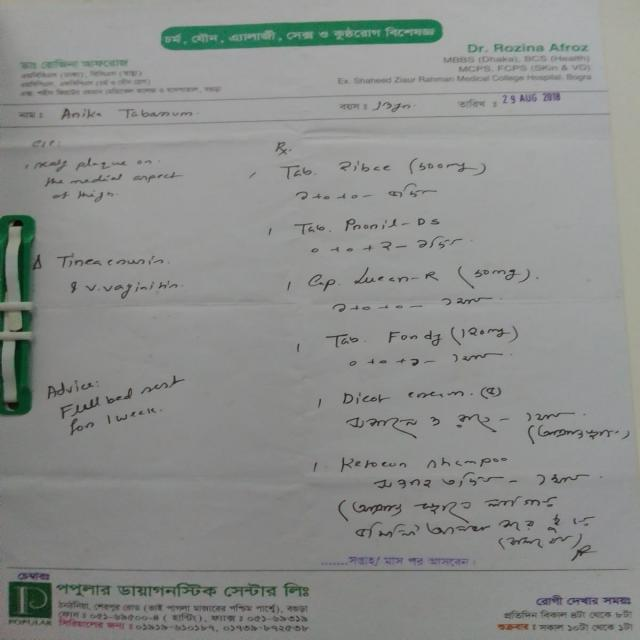Dicot: (341, 385, 386, 407)
Fondy: (382, 328, 451, 347)
Ketocon: (334, 453, 411, 473)
Lucan R: (352, 264, 448, 284)
Pronil DS: (334, 215, 463, 234)
Zibac: (339, 158, 397, 180)
